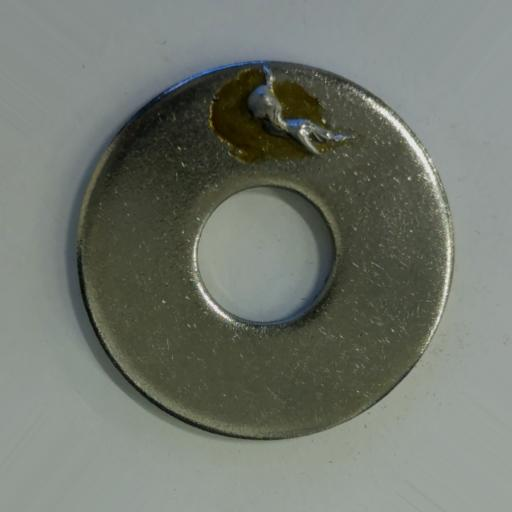excess_material: (246, 64, 356, 157)
